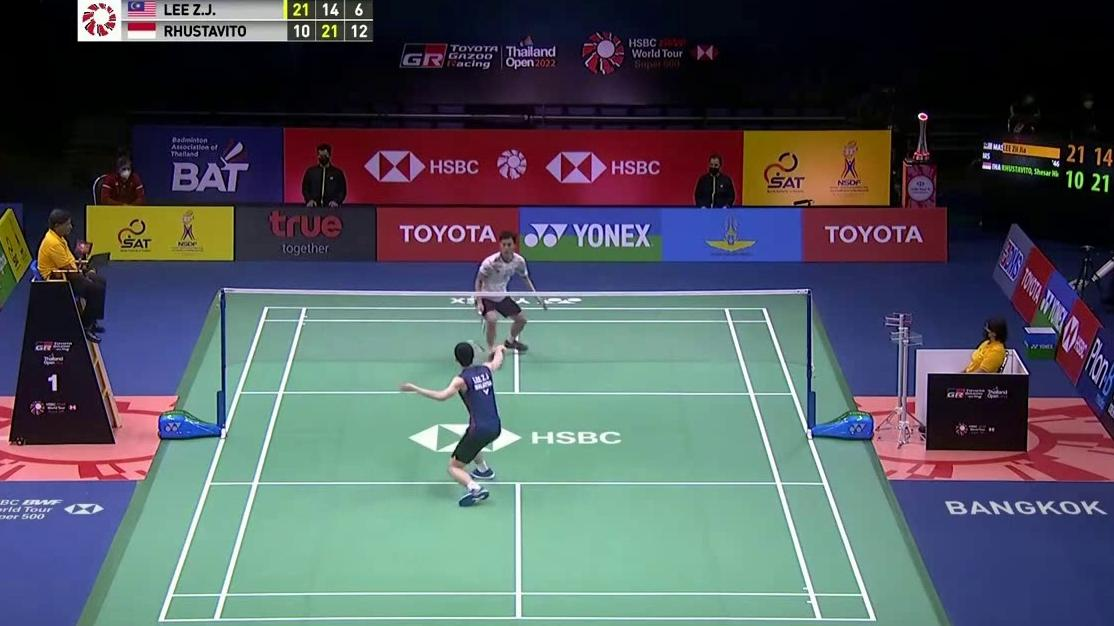racket: (465, 340, 506, 362), (476, 310, 491, 336)
shuttle: (468, 294, 476, 305)
